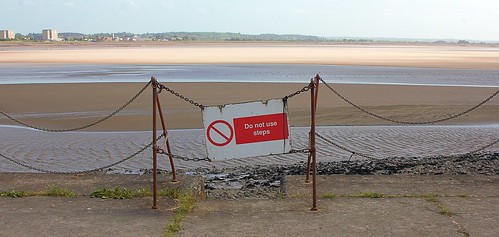building: (39, 25, 55, 39), (1, 27, 15, 42)
sea: (4, 59, 499, 93)
sign: (196, 104, 291, 157)
sky: (1, 1, 499, 30)
